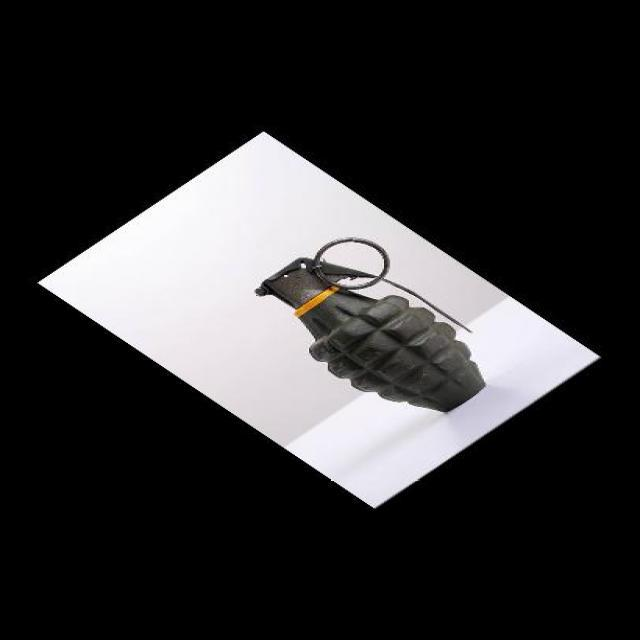grenade: (266, 230, 488, 427)
